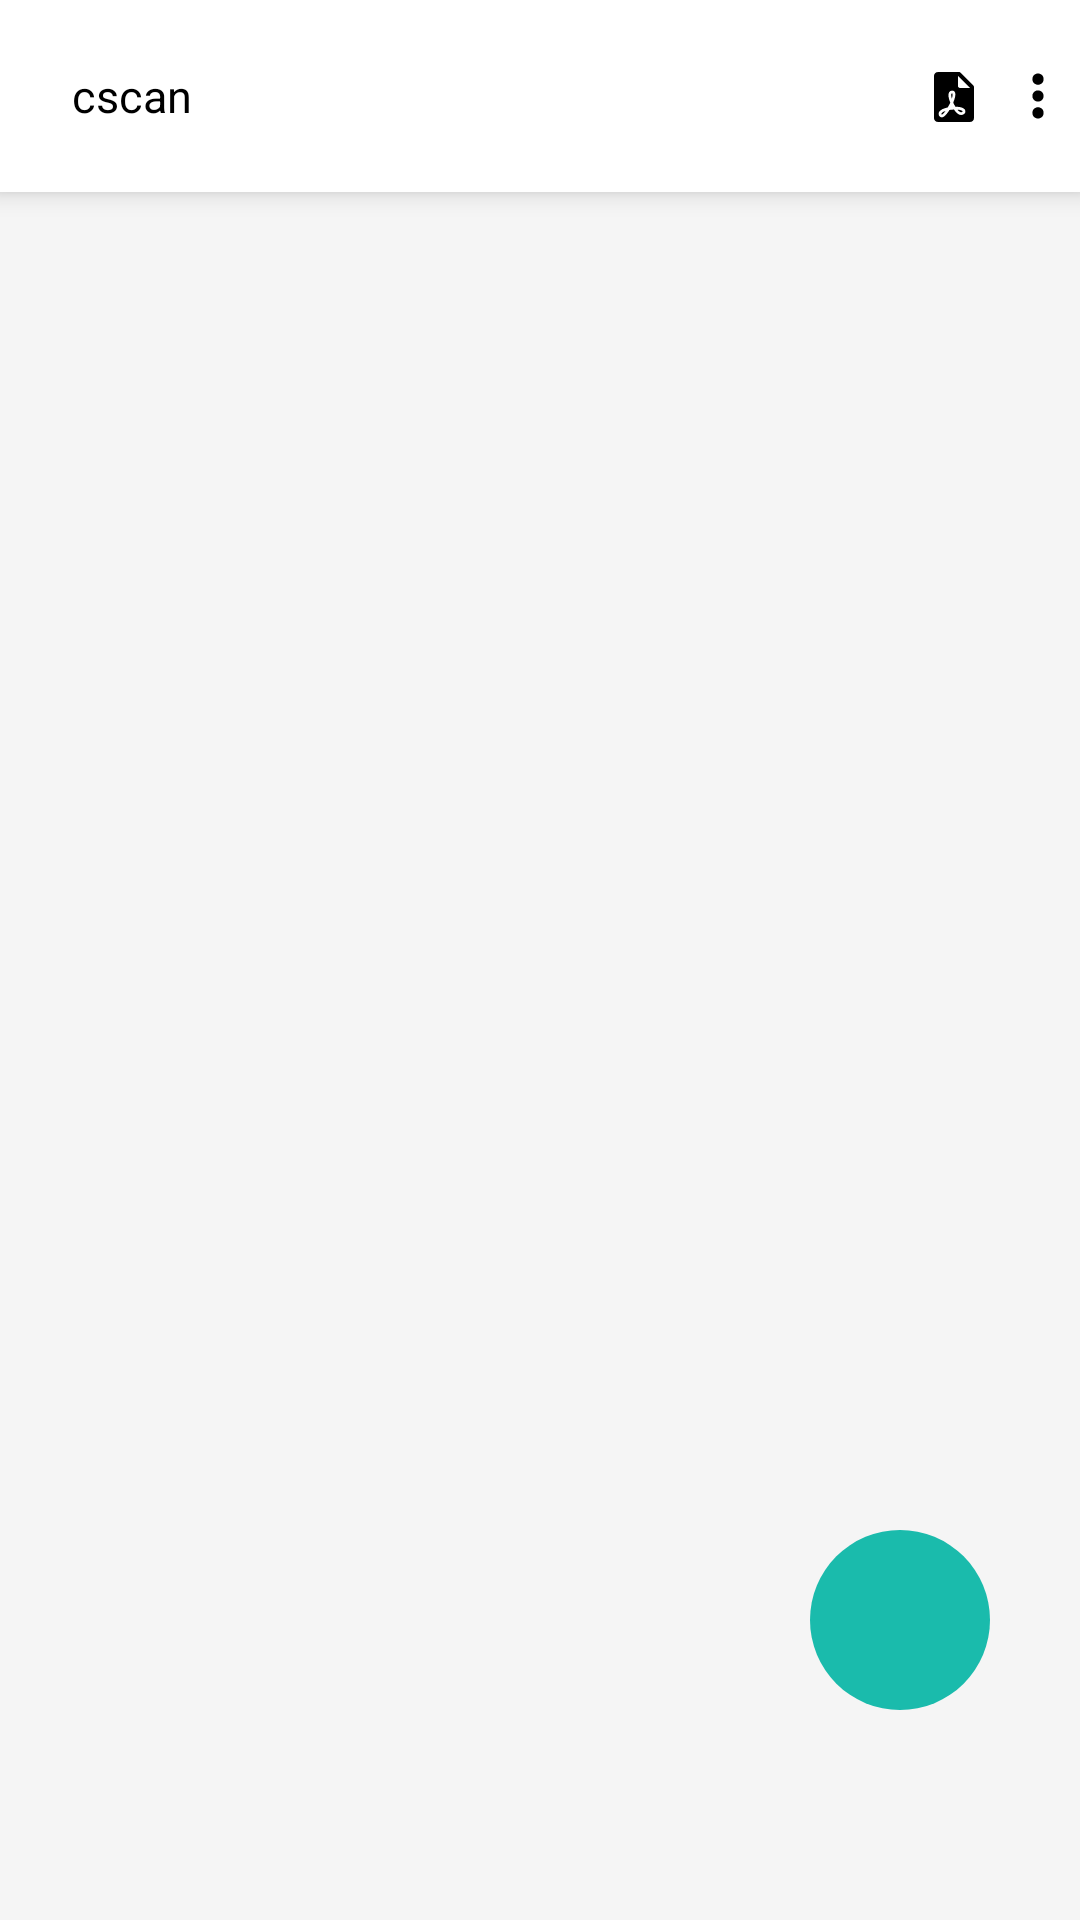

Icon click points for this 1080x1920 phone screenshot, format (x=x, y=y):
more: (x=1038, y=96)
